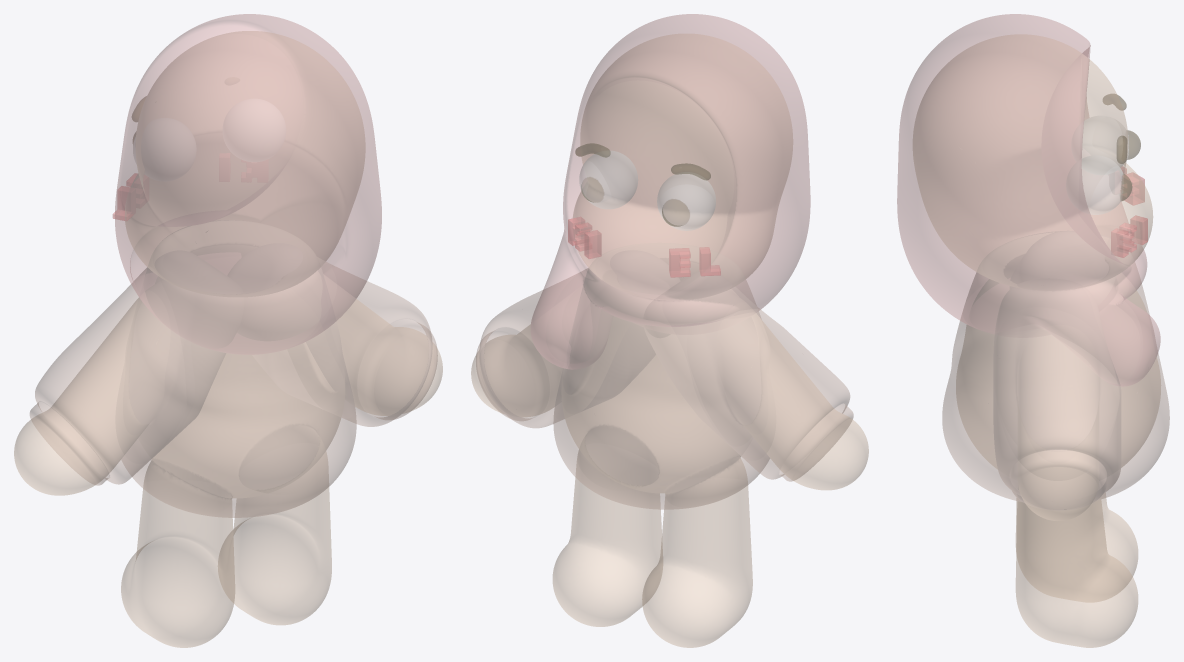
File: jiko.glb
3 renders of one model, left to right at view 1: azimuth 30°, elevation 25°; view 2: azimuth 150°, elevation 25°; view 3: azimuth 270°, elevation 25°, orthographic. The views are drawn at different scales.
Parts seen in each view (by area): view 1: body, hijab, Area (1), sleeve R, sleeve L; view 2: body, hijab, Area (1), sleeve R, sleeve L, eyes, Area (2); view 3: body, hijab, Area (1), sleeve L, eyes, Area (2).
Part boxes in pixels (<box>): body: <box>14,31,442,647</box>; hijab: <box>115,14,381,354</box>; Area (1): <box>121,220,356,517</box>; sleeve R: <box>30,267,225,485</box>; sleeve L: <box>252,262,437,426</box>; body: <box>471,34,868,647</box>; hijab: <box>531,14,810,369</box>; Area (1): <box>553,268,769,509</box>; sleeve R: <box>644,287,853,481</box>; sleeve L: <box>476,268,655,427</box>; eyes: <box>575,143,715,230</box>; Area (2): <box>568,217,720,277</box>; body: <box>913,34,1160,647</box>; hijab: <box>897,14,1160,386</box>; Area (1): <box>942,231,1169,501</box>; sleeve L: <box>993,307,1120,510</box>; eyes: <box>1081,94,1140,214</box>; Area (2): <box>1111,166,1147,257</box>.
Bounding box in the file's own units: 606 × 875 × 366.
7 materials, 7 textured.
